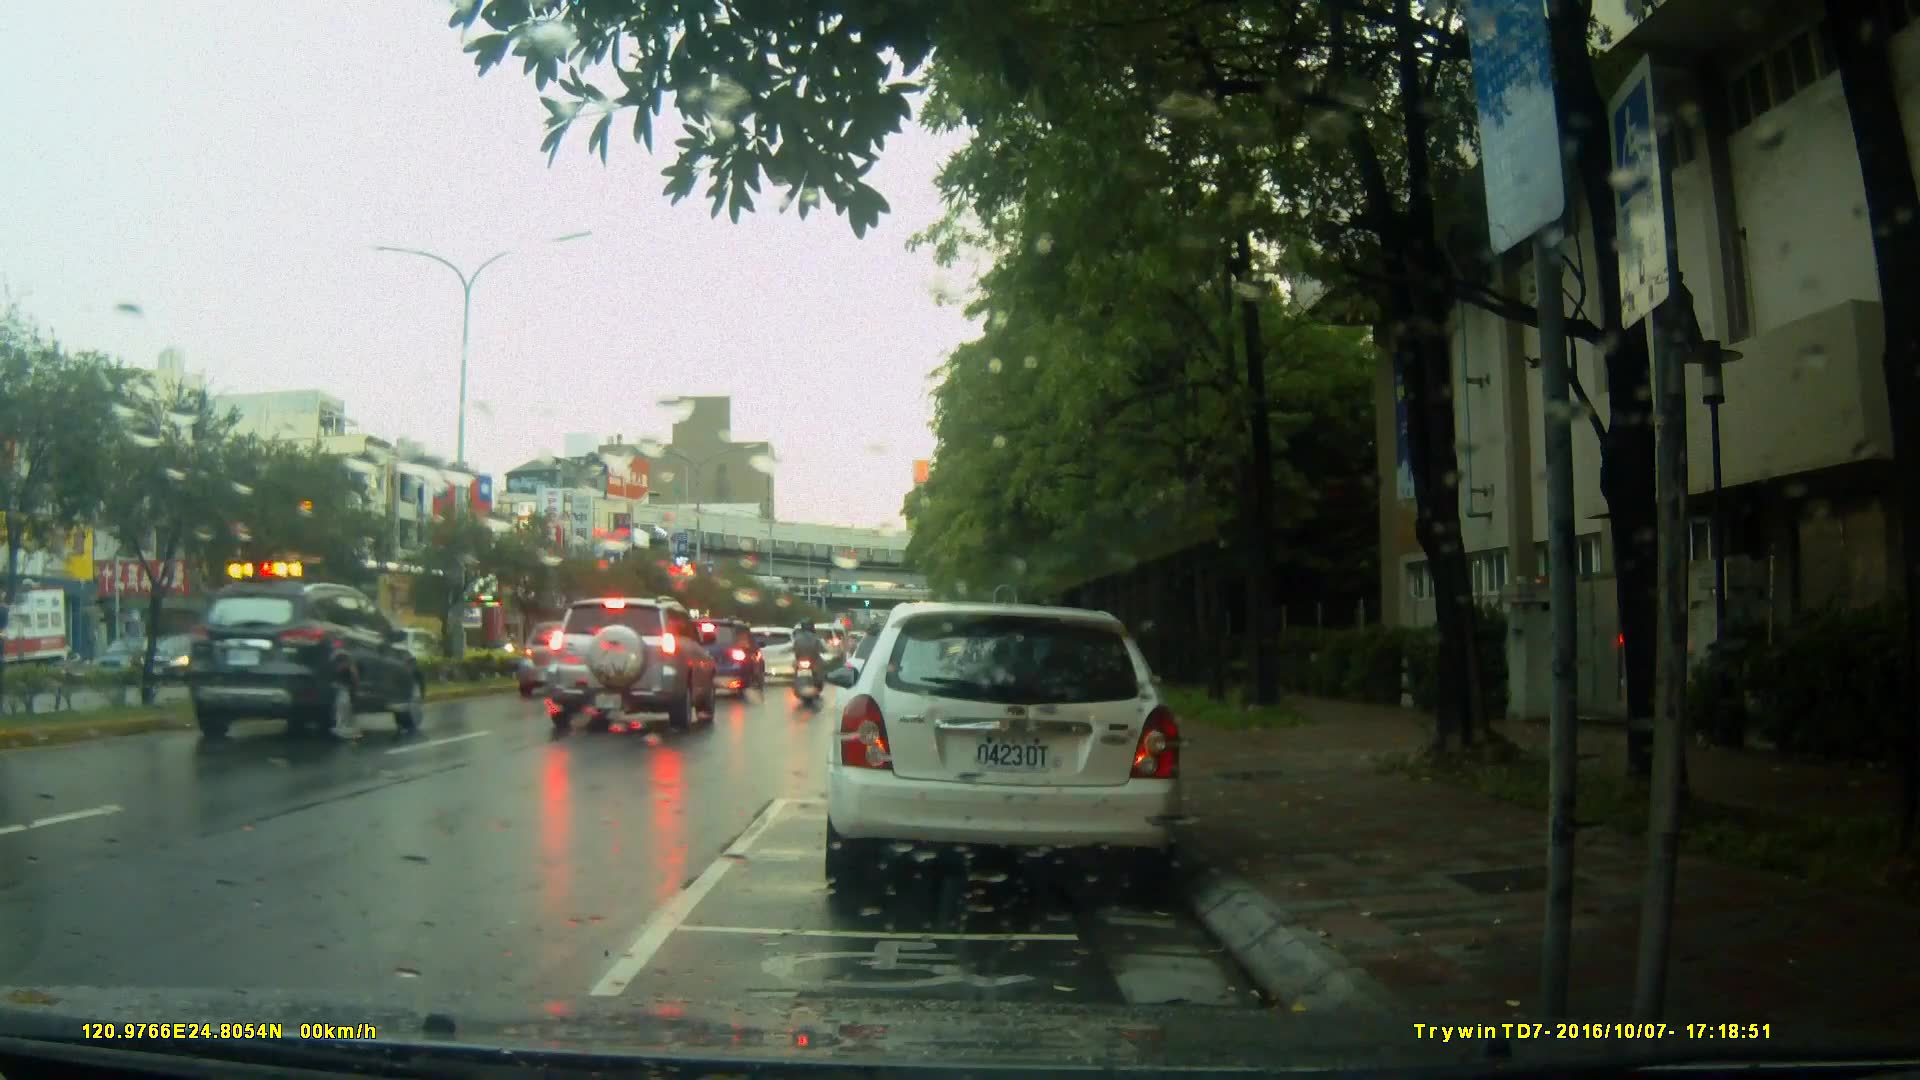rider: (793, 613, 833, 712)
vehicle: (820, 602, 1188, 898), (183, 581, 433, 745), (550, 596, 722, 731), (674, 616, 769, 691)
